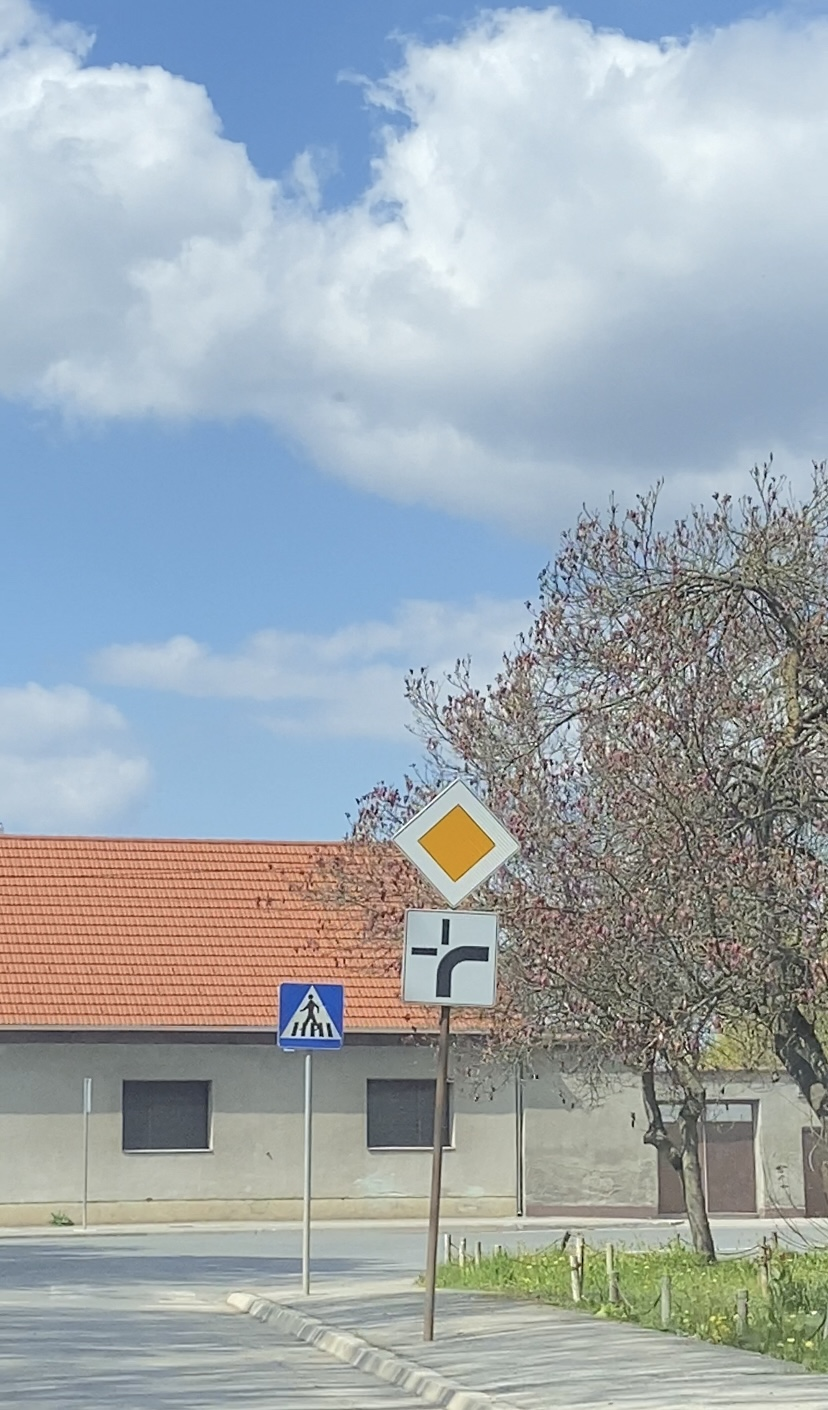Cesta s prednošću prolaska: (392, 777, 522, 911)
Pješački prijelaz: (279, 980, 344, 1048)
